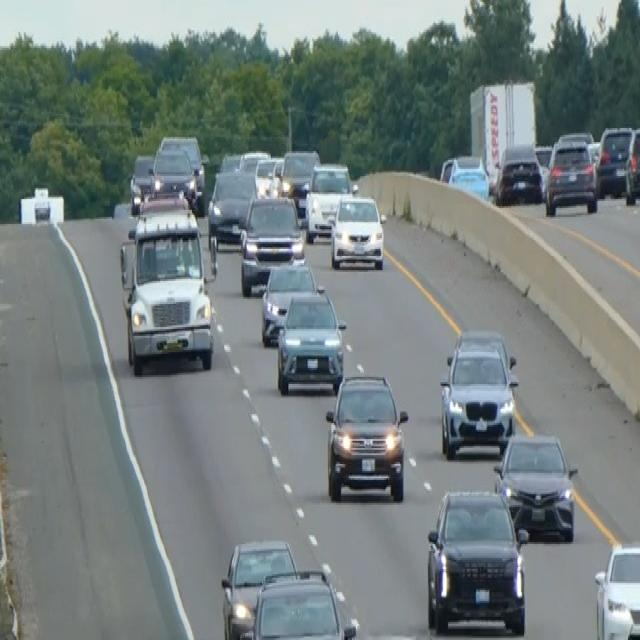car: (425, 485, 529, 635), (324, 370, 409, 503), (439, 327, 518, 459), (493, 430, 578, 542), (238, 566, 357, 638), (220, 535, 298, 638), (275, 284, 347, 394), (238, 192, 305, 295), (260, 259, 318, 345), (544, 130, 598, 215), (593, 539, 639, 638), (329, 192, 384, 270), (304, 160, 355, 244), (207, 167, 257, 249), (495, 140, 543, 204), (150, 144, 198, 208), (279, 148, 320, 215), (596, 123, 632, 197), (440, 151, 489, 201), (128, 151, 155, 212), (624, 124, 639, 204), (253, 154, 279, 196), (239, 148, 270, 176), (218, 150, 242, 172)
lorry: (117, 195, 216, 377)
